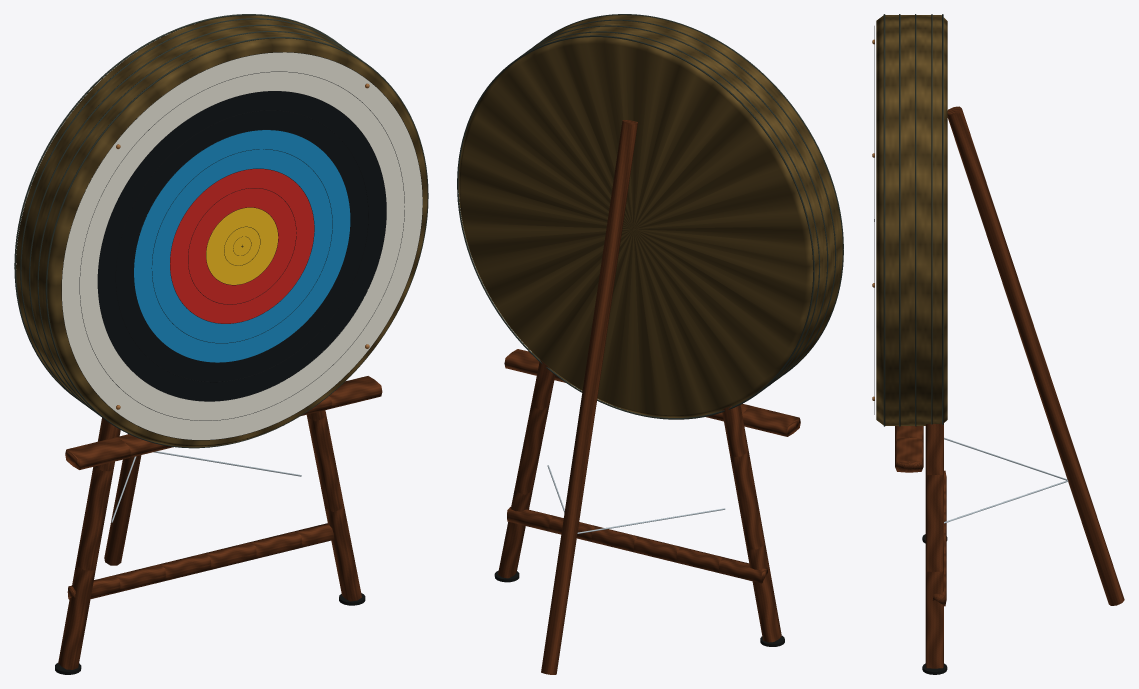
Rendered from target.glb.
The picture shows the model from 3 angles, left to right: view 1: azimuth 30°, elevation 25°; view 2: azimuth 150°, elevation 25°; view 3: azimuth 270°, elevation 25°; orthographic projection. The views are drawn at different scales.
Visible parts, largest first — view 1: face, butt, stand; view 2: butt, stand; view 3: butt, stand, face.
Boxes of the visible parts, <box> form: face: <box>61,52,422,440</box>; butt: <box>14,14,428,448</box>; stand: <box>55,376,382,674</box>; butt: <box>457,14,843,419</box>; stand: <box>494,120,800,674</box>; butt: <box>876,14,947,426</box>; stand: <box>895,106,1124,674</box>; face: <box>874,26,874,414</box>.
Bounding box in the file's own units: 1.29 × 1.98 × 0.7909.
Materials: 11 (2 with a texture image).
